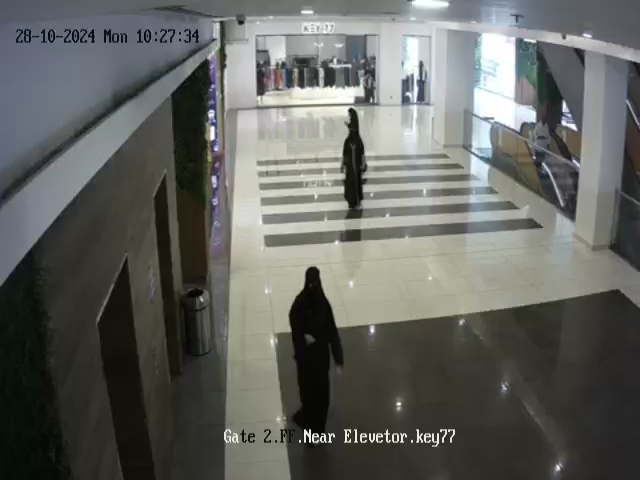female: (276, 263, 349, 437), (340, 107, 367, 210)
male: (530, 107, 554, 184)
other: (410, 59, 433, 114)
